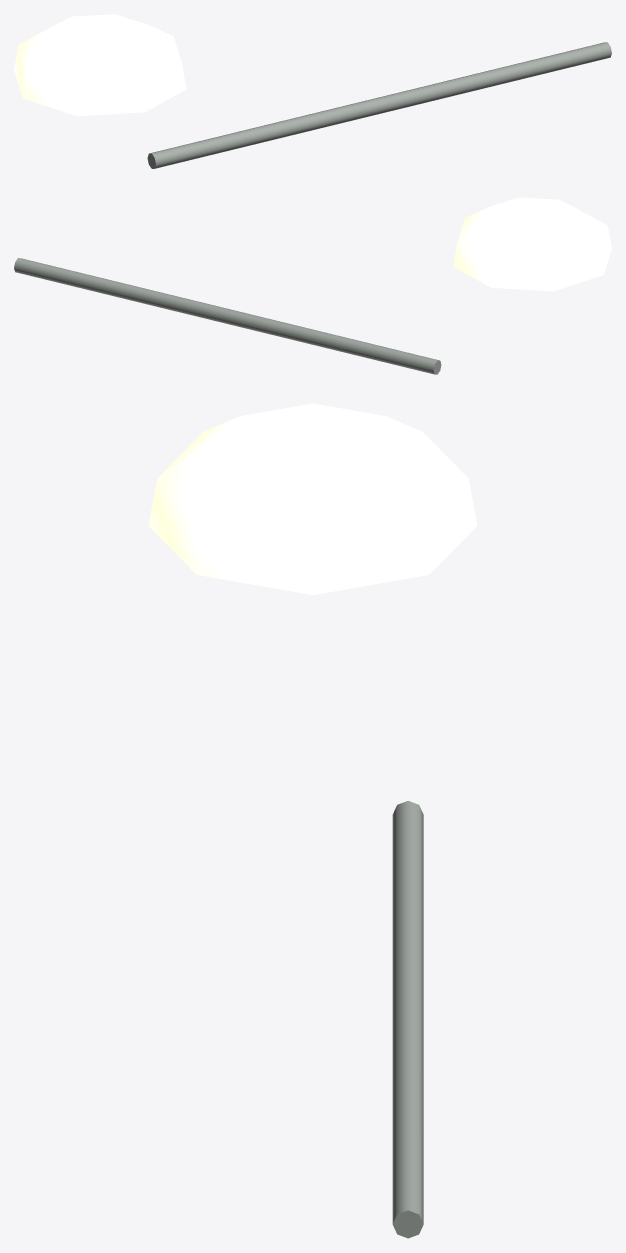
Rendered from SM_Town_Motel_Room6Fixtures_LOD2.fbx.
The picture shows the model from 3 angles, top to bottom: view 1: azimuth 30°, elevation 25°; view 2: azimuth 150°, elevation 25°; view 3: azimuth 270°, elevation 25°; orthographic projection. The views are drawn at different scales.
Parts seen in each view (by area): view 1: SM_Town_Motel_Room6Fixtures_LOD2; view 2: SM_Town_Motel_Room6Fixtures_LOD2; view 3: SM_Town_Motel_Room6Fixtures_LOD2.
Boxes of the visible parts, bbox=[...] form: SM_Town_Motel_Room6Fixtures_LOD2: bbox=[14, 14, 611, 168]; SM_Town_Motel_Room6Fixtures_LOD2: bbox=[14, 197, 611, 374]; SM_Town_Motel_Room6Fixtures_LOD2: bbox=[148, 403, 477, 1238].
Size of the model in its own units: 1.5 by 0.38 by 0.398.
